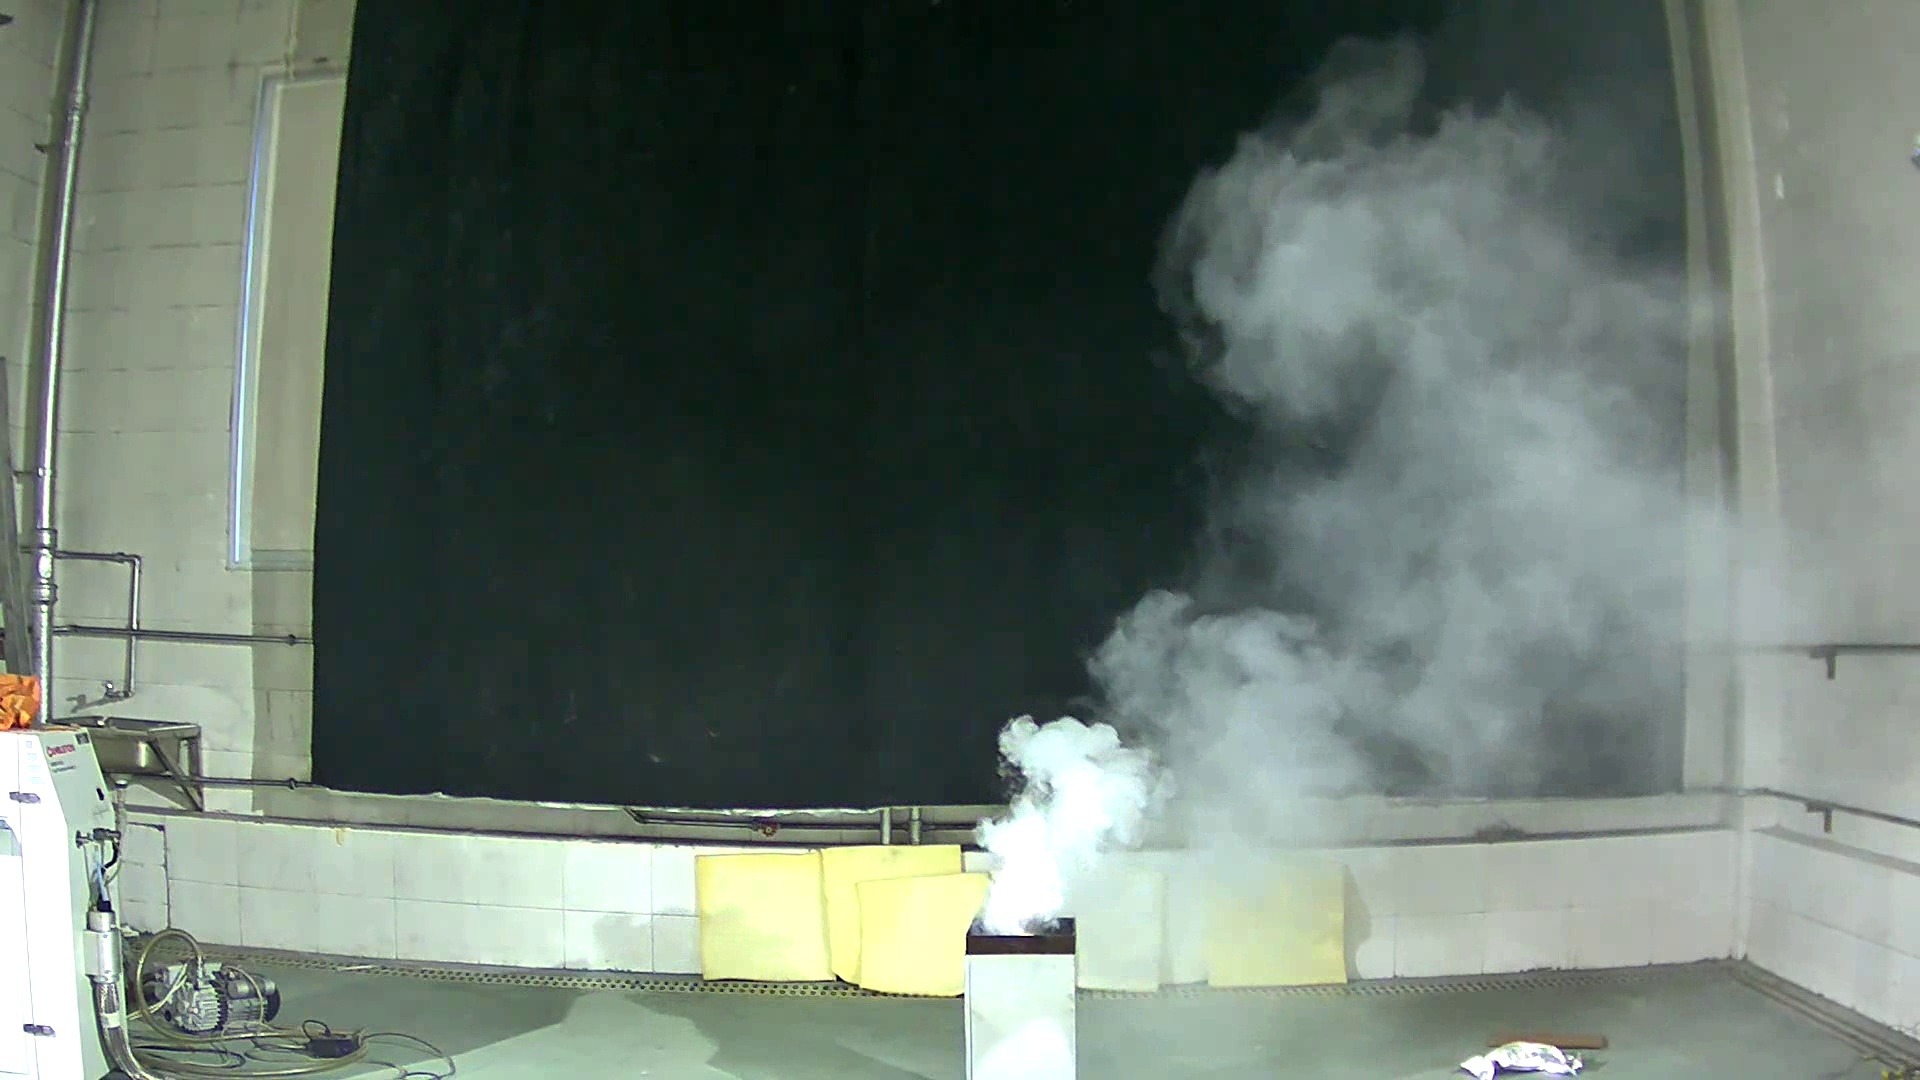smoke: (952, 94, 1724, 924)
